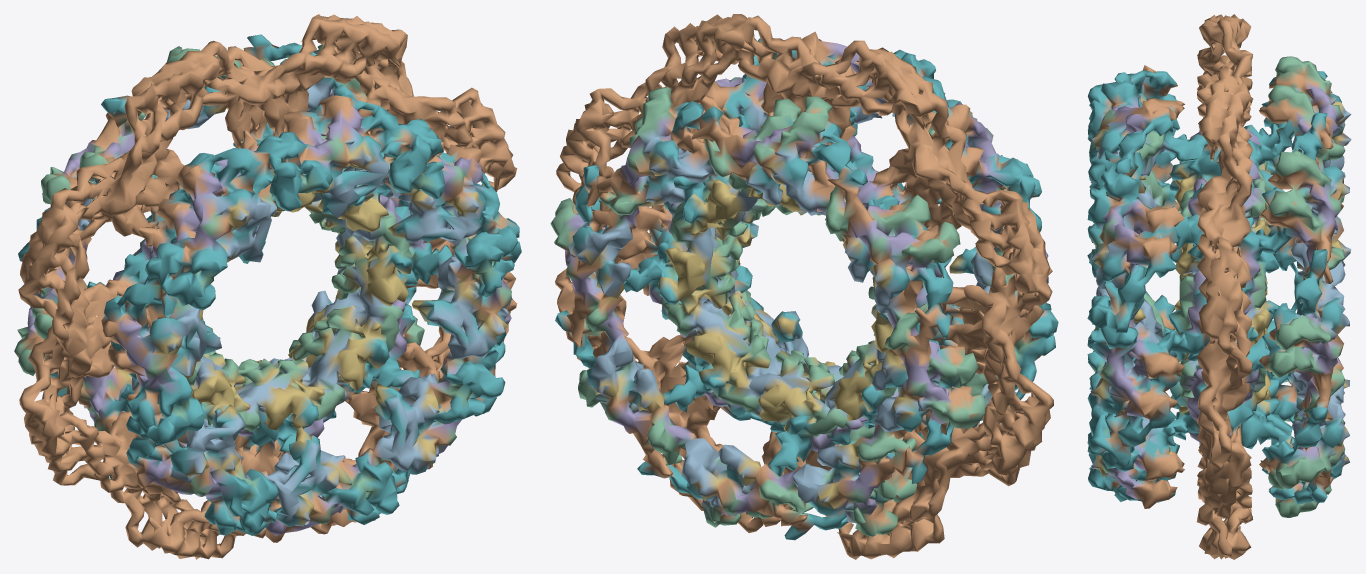
File: pdb-7r5k-nuclear-pore.glb
3 views of the same model, side by side, from view 1: azimuth 30°, elevation 25°; view 2: azimuth 150°, elevation 25°; view 3: azimuth 270°, elevation 25° (orthographic). The views are drawn at different scales.
Parts seen in each view (by area): view 1: Nuclear Pore Complex; view 2: Nuclear Pore Complex; view 3: Nuclear Pore Complex.
Boxes of the visible parts, box(x1,y1,x2,y2) form: Nuclear Pore Complex: box(14, 14, 521, 559); Nuclear Pore Complex: box(550, 14, 1058, 559); Nuclear Pore Complex: box(1087, 14, 1351, 559).
Size of the model in its own units: 147 by 147 by 72.49.
